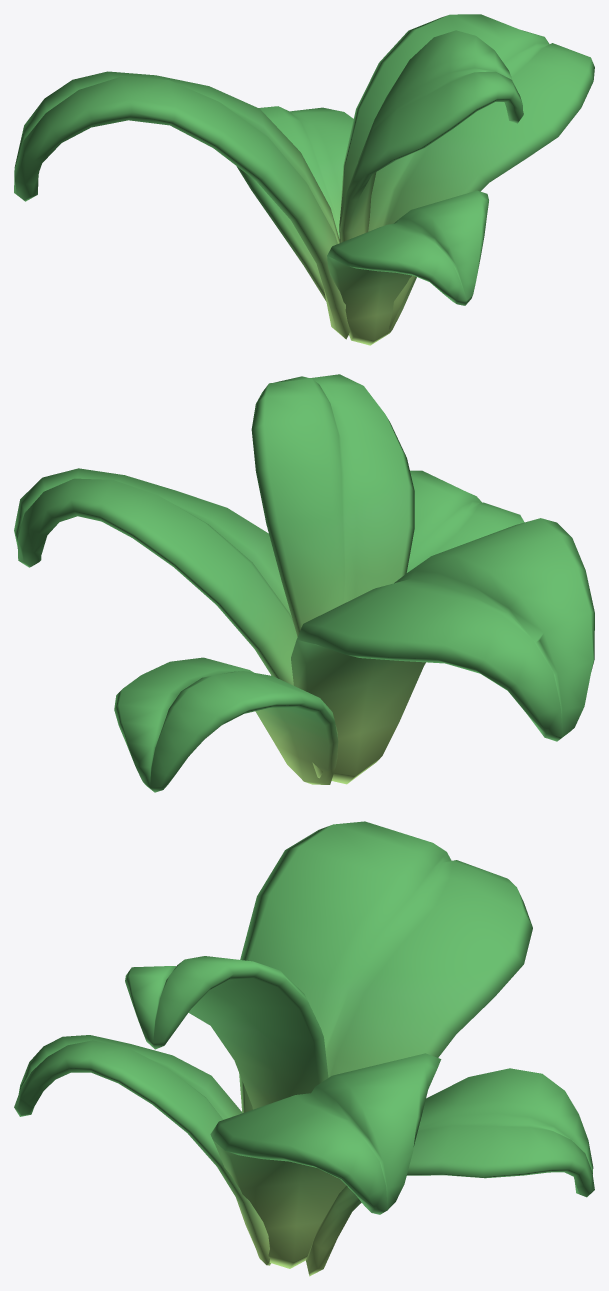
3 views of the same model, one above another, from view 1: azimuth 30°, elevation 25°; view 2: azimuth 150°, elevation 25°; view 3: azimuth 270°, elevation 25° (orthographic). The views are drawn at different scales.
Parts seen in each view (by area): view 1: SM_SSD_S_M_huacaoo49; view 2: SM_SSD_S_M_huacaoo49; view 3: SM_SSD_S_M_huacaoo49.
Boxes of the visible parts, left/top/right/bottom form: SM_SSD_S_M_huacaoo49: left=14, top=14, right=594, bottom=345; SM_SSD_S_M_huacaoo49: left=14, top=374, right=594, bottom=792; SM_SSD_S_M_huacaoo49: left=14, top=821, right=594, bottom=1276.
Size of the model in its own units: 3.29 by 1.81 by 2.69.
1 material, 1 textured.
